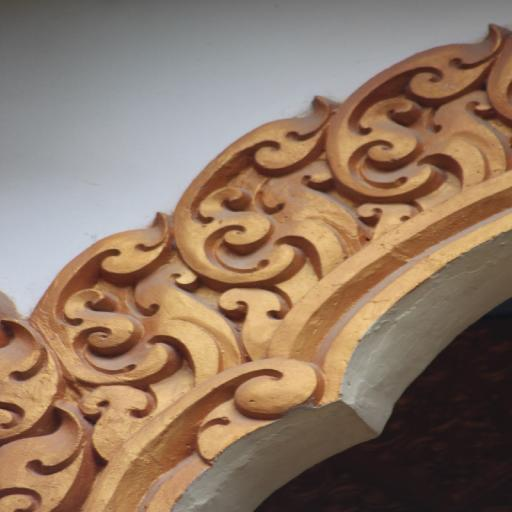lua: (330, 22, 504, 206), (177, 92, 338, 288), (45, 212, 181, 382), (0, 415, 110, 512), (0, 318, 65, 427)
